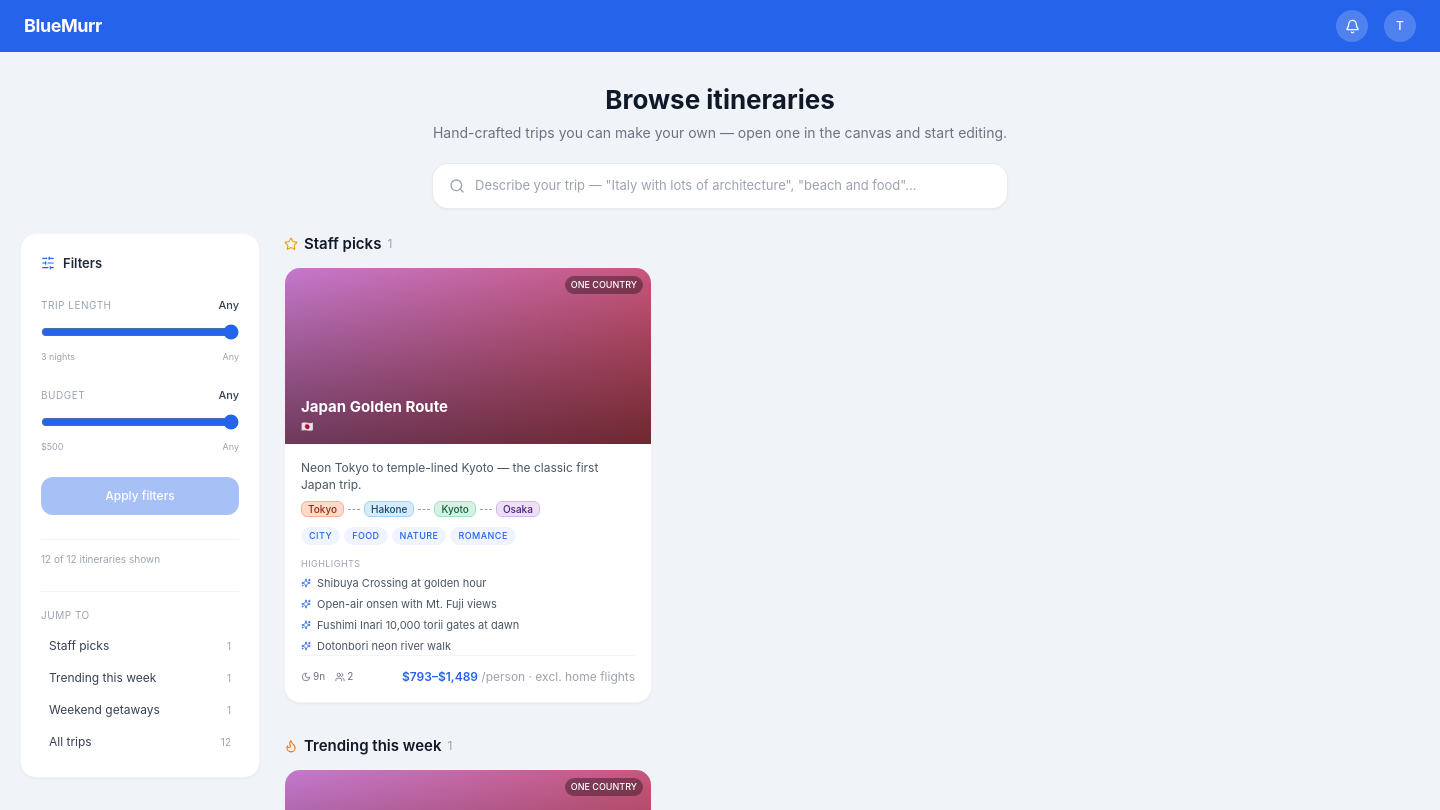
Browse — live catalog › sidebar filters narrow every section and hide sections they empty
Check: the element "Staff picks" is shown, box [284,234,652,702]
Set the slider labelled "Trip length" to "5" at (59, 332), box [41,324,239,340]
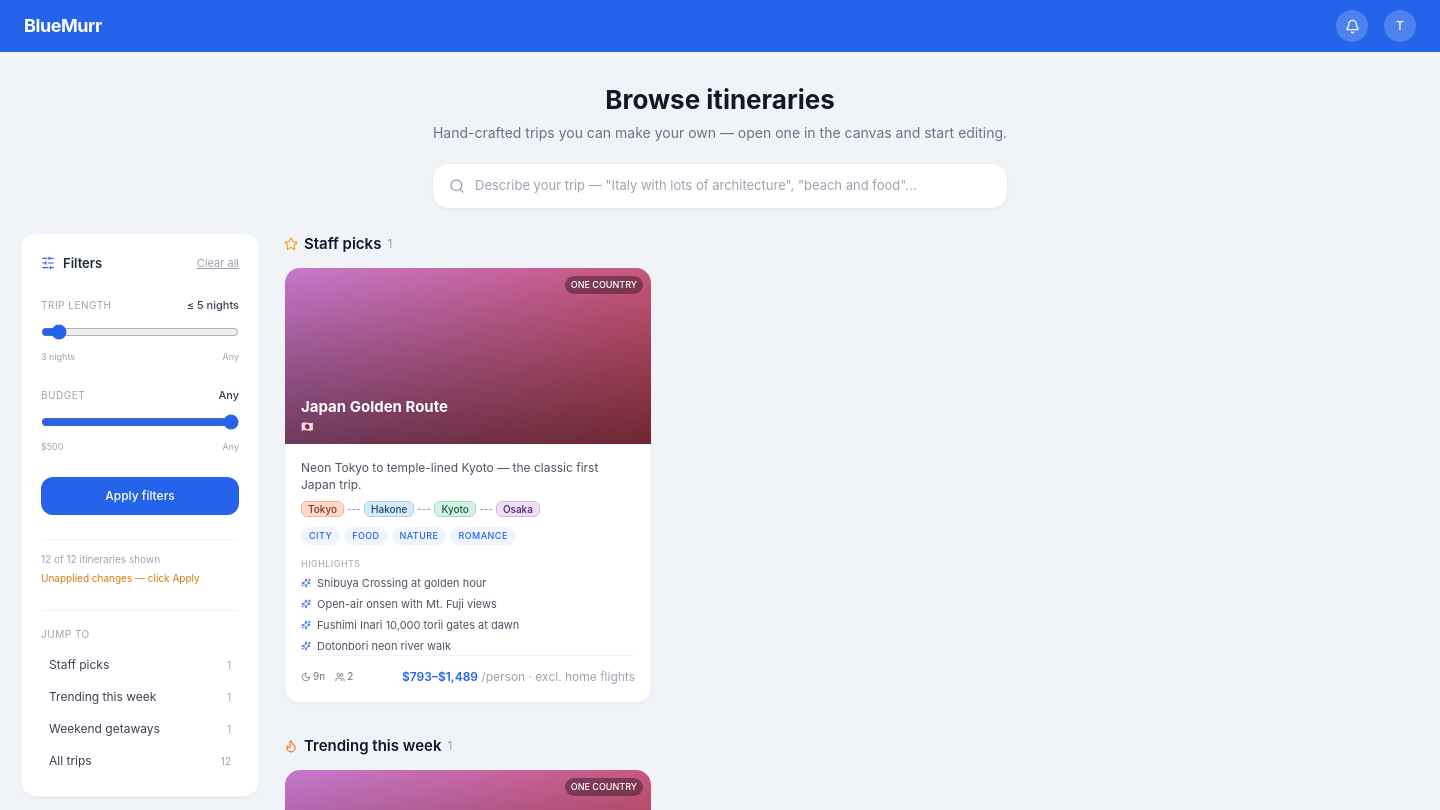
Click the button "Apply filters" at (140, 496), box [41,477,239,515]
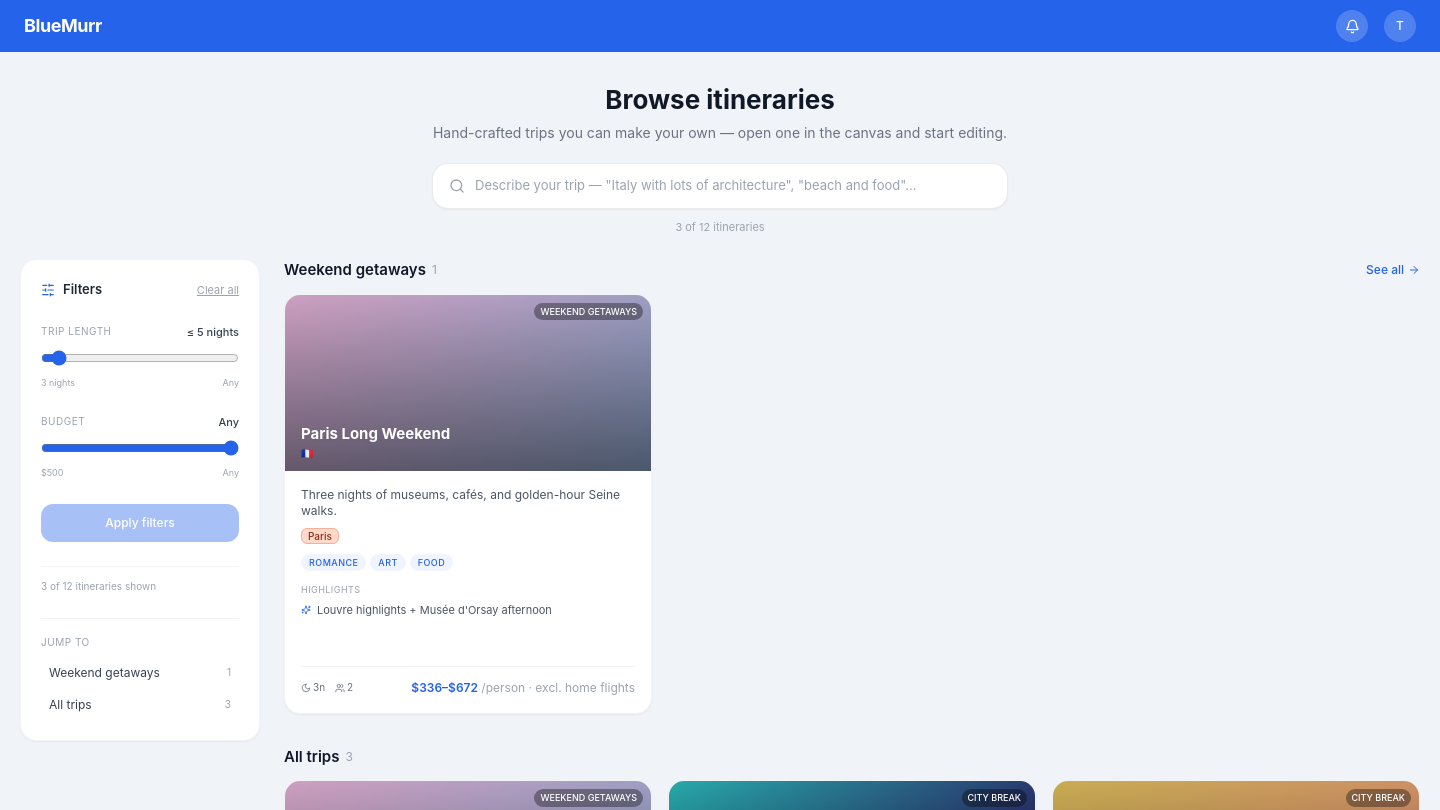
Check: the text "Paris Long Weekend" is shown, box [301,424,450,443]
Check: the button "Staff picks" is gone
Check: the button "Trending this week" is gone
